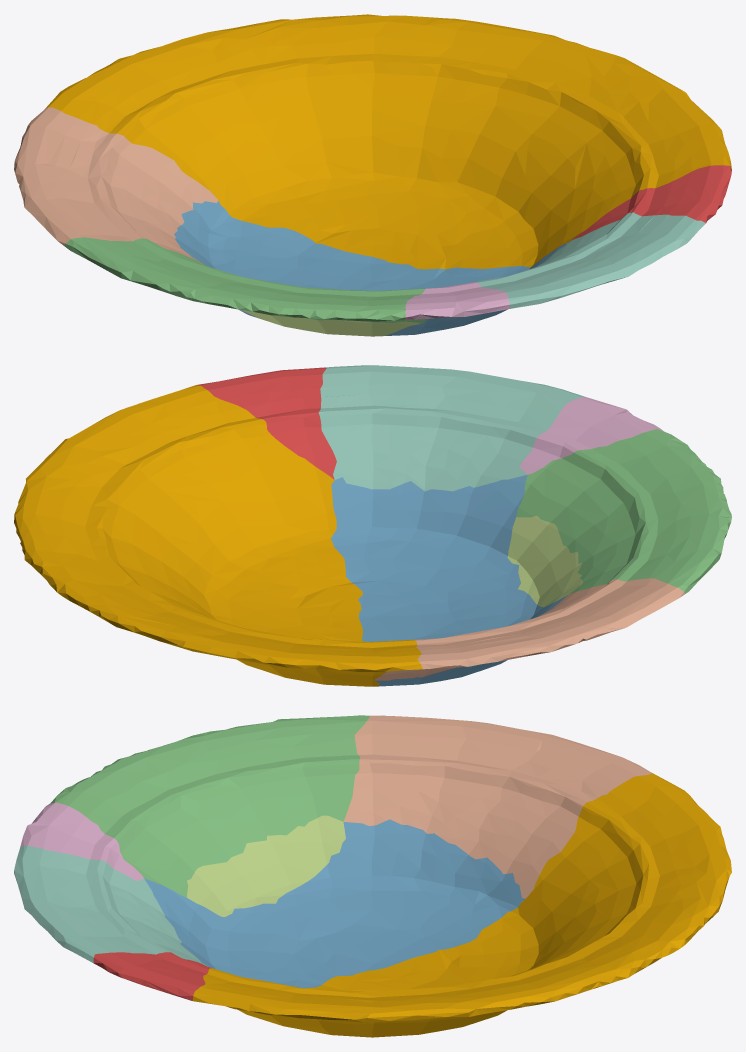
Rendered from fractured_32_8pcs.glb.
3 renders of one model, top to bottom at view 1: azimuth 30°, elevation 25°; view 2: azimuth 150°, elevation 25°; view 3: azimuth 270°, elevation 25°, orthographic.
Parts seen in each view (by area): view 1: piece_0.obj, piece_7.obj, piece_2.obj, piece_3.obj, piece_4.obj, piece_1.obj, piece_6.obj, piece_5.obj; view 2: piece_0.obj, piece_2.obj, piece_4.obj, piece_3.obj, piece_7.obj, piece_1.obj, piece_6.obj, piece_5.obj; view 3: piece_0.obj, piece_2.obj, piece_3.obj, piece_7.obj, piece_4.obj, piece_5.obj, piece_6.obj, piece_1.obj.
Part boxes in pixels (<box>): piece_0.obj: <box>45,14,731,269</box>; piece_7.obj: <box>14,107,218,263</box>; piece_2.obj: <box>174,200,566,335</box>; piece_3.obj: <box>64,237,427,323</box>; piece_4.obj: <box>476,212,705,308</box>; piece_1.obj: <box>569,165,731,241</box>; piece_6.obj: <box>405,282,509,320</box>; piece_5.obj: <box>241,310,420,336</box>; piece_0.obj: <box>14,385,422,686</box>; piece_2.obj: <box>330,474,567,686</box>; piece_4.obj: <box>318,365,584,491</box>; piece_3.obj: <box>516,429,731,594</box>; piece_7.obj: <box>374,578,684,680</box>; piece_1.obj: <box>196,367,336,479</box>; piece_6.obj: <box>520,397,662,474</box>; piece_5.obj: <box>507,516,582,607</box>; piece_0.obj: <box>192,773,731,1037</box>; piece_2.obj: <box>144,819,525,988</box>; piece_3.obj: <box>50,715,369,897</box>; piece_7.obj: <box>343,715,652,898</box>; piece_4.obj: <box>14,845,208,966</box>; piece_5.obj: <box>186,815,345,916</box>; piece_6.obj: <box>20,802,143,880</box>; piece_1.obj: <box>93,952,211,1000</box>.
Size of the model in its own units: 1 by 0.1832 by 0.9983.
